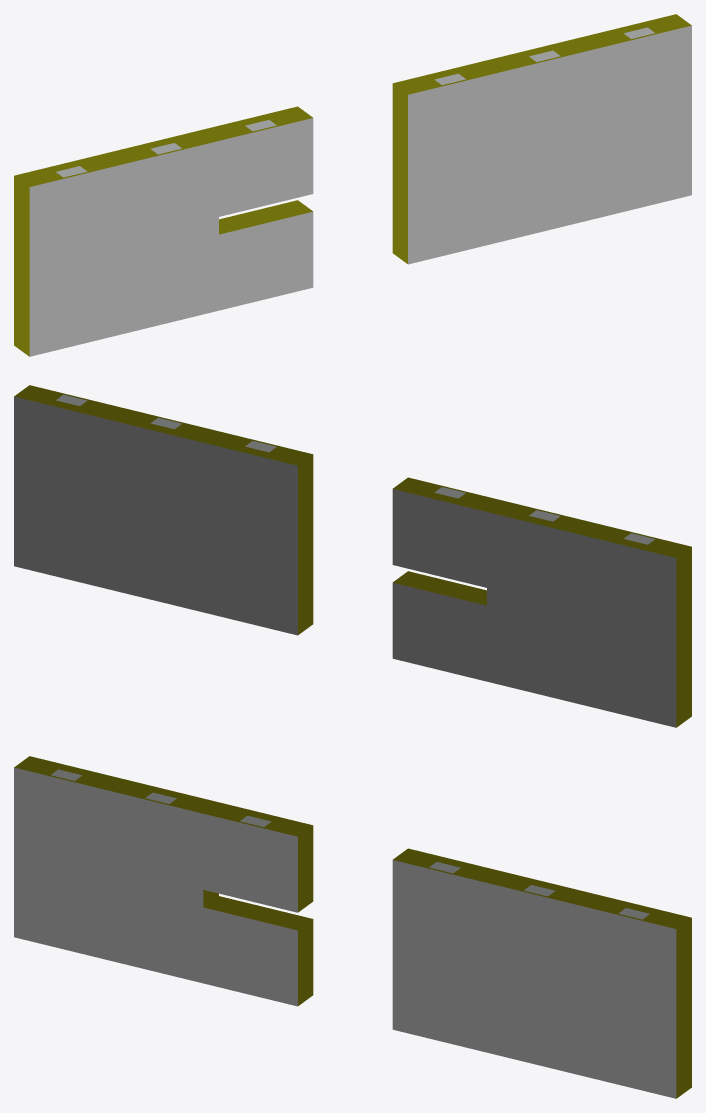
The model's file is idf.obj.
The picture shows the model from 3 angles, top to bottom: view 1: azimuth 30°, elevation 25°; view 2: azimuth 150°, elevation 25°; view 3: azimuth 330°, elevation 25°; orthographic projection.
Bounding box in the file's own units: 59.74 × 14.63 × 2.44.
